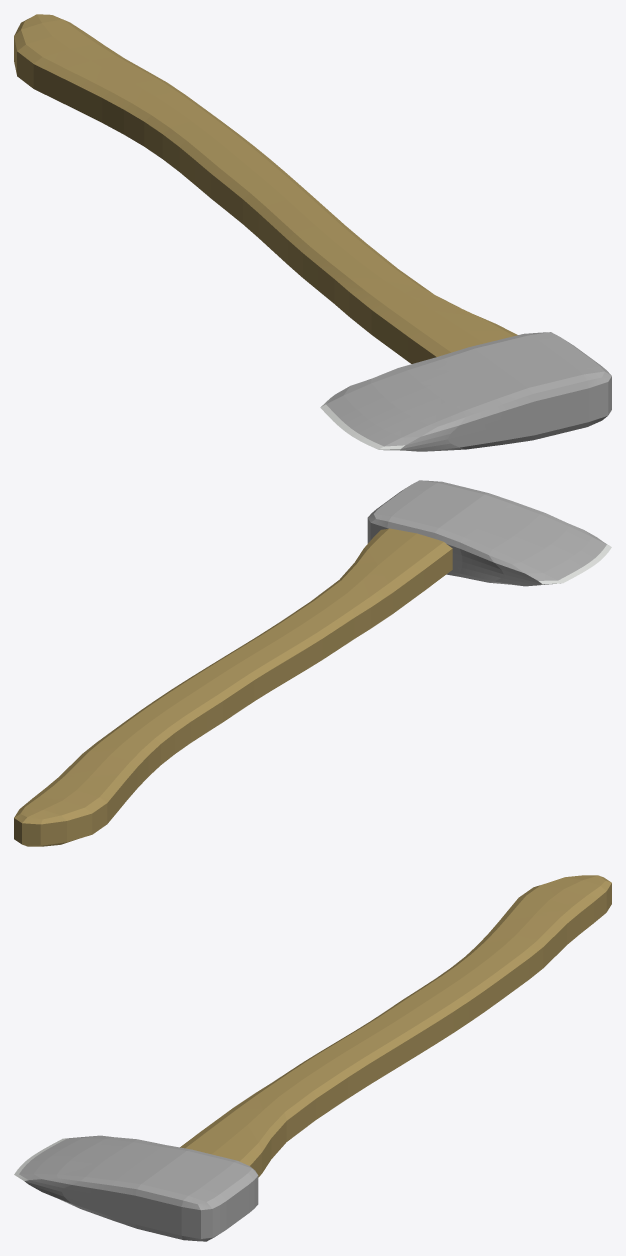
File: Axe.fbx
The picture shows the model from 3 angles, top to bottom: view 1: azimuth 30°, elevation 25°; view 2: azimuth 150°, elevation 25°; view 3: azimuth 330°, elevation 25°; orthographic projection. The views are drawn at different scales.
Visible parts, largest first — view 1: Axe2; view 2: Axe2; view 3: Axe2.
Boxes of the visible parts, x1,y1,x2,y2 form: Axe2: (14, 14, 611, 451); Axe2: (14, 480, 611, 846); Axe2: (14, 875, 611, 1241).
Size of the model in its own units: 1.39 by 0.2783 by 5.22.
